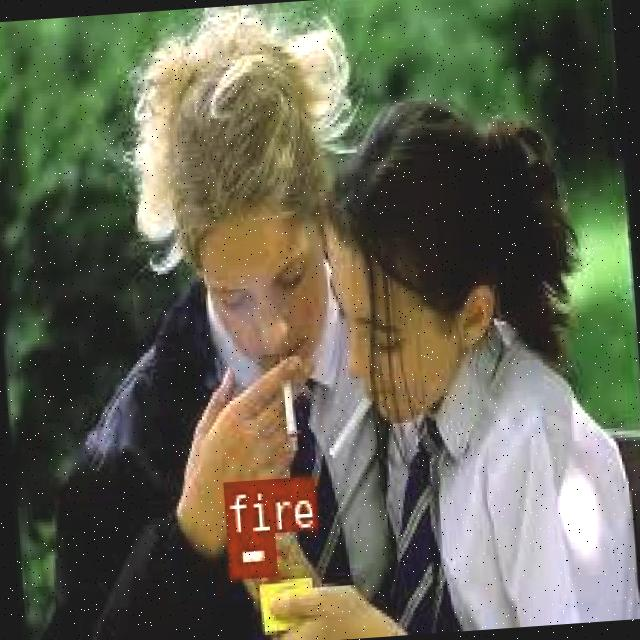fire: (224, 530, 273, 574)
